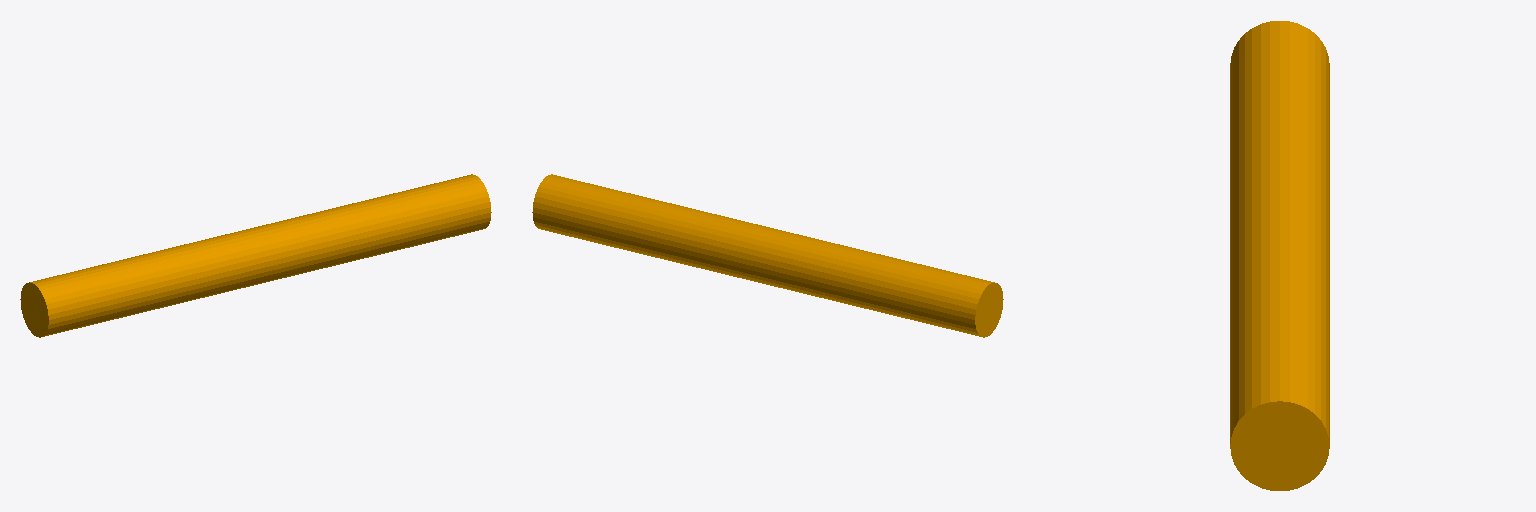
The robot description file, URDF, robot "prius":
<?xml version="1.0" ?>
<robot name="prius">
  <joint name="prius_hybrid__front_left_combined_joint" type="revolute">
    <parent link="prius_hybrid__chassis"/>
    <child link="prius_hybrid__front_left_combined_joint__revolute_dummy_link"/>
    <origin xyz="0.76 -1.41  0.33" rpy="-0.08726  0       0"/>
    <axis xyz="0 0 1"/>
    <limit lower="-0.8727" upper="0.8727" effort="0.0" velocity="0.0"/>
  </joint>
  <link name="prius_hybrid__front_left_combined_joint__revolute_dummy_link"/>
  <joint name="prius_hybrid__front_left_combined_joint__revolute_dummy_joint" type="revolute">
    <parent link="prius_hybrid__front_left_combined_joint__revolute_dummy_link"/>
    <child link="prius_hybrid__front_left_wheel"/>
    <axis xyz="1 0 0"/>
    <limit lower="0" upper="0" effort="0" velocity="0"/>
  </joint>
  <joint name="prius_hybrid__front_right_combined_joint" type="revolute">
    <parent link="prius_hybrid__chassis"/>
    <child link="prius_hybrid__front_right_combined_joint__revolute_dummy_link"/>
    <origin xyz="-0.76 -1.41  0.33" rpy="-0.08726  0       0"/>
    <axis xyz="0 0 1"/>
    <limit lower="-0.8727" upper="0.8727" effort="0.0" velocity="0.0"/>
  </joint>
  <link name="prius_hybrid__front_right_combined_joint__revolute_dummy_link"/>
  <joint name="prius_hybrid__front_right_combined_joint__revolute_dummy_joint" type="revolute">
    <parent link="prius_hybrid__front_right_combined_joint__revolute_dummy_link"/>
    <child link="prius_hybrid__front_right_wheel"/>
    <axis xyz="1 0 0"/>
    <limit lower="0" upper="0" effort="0" velocity="0"/>
  </joint>
  <joint name="prius_hybrid__rear_axle_joint" type="revolute">
    <parent link="prius_hybrid__chassis"/>
    <child link="prius_hybrid__rear_axle"/>
    <origin xyz="0   1.45 0.33" rpy="0 0 0"/>
    <axis xyz="0 1 0"/>
    <limit lower="-0.05089058524173028" upper="0.05089058524173028" effort="0.0" velocity="0.0"/>
  </joint>
  <joint name="prius_hybrid__rear_left_wheel_joint" type="fixed">
    <parent link="prius_hybrid__rear_axle"/>
    <child link="prius_hybrid__rear_left_wheel"/>
    <origin xyz="0.786 0    0" rpy="0 0 0"/>
    <axis xyz="1 0 0"/>
    <limit lower="0" upper="0" effort="0" velocity="0"/>
  </joint>
  <joint name="prius_hybrid__rear_right_wheel_joint" type="fixed">
    <parent link="prius_hybrid__rear_axle"/>
    <child link="prius_hybrid__rear_right_wheel"/>
    <origin xyz="-0.786  0     0" rpy="0 0 0"/>
    <axis xyz="1 0 0"/>
    <limit lower="0" upper="0" effort="0" velocity="0"/>
  </joint>
  <joint name="prius_hybrid__steering_joint" type="revolute">
    <parent link="prius_hybrid__chassis"/>
    <child link="prius_hybrid__steering_wheel"/>
    <origin xyz="0.35573 -0.62786  1.01824" rpy="-1.3021  0      0"/>
    <axis xyz="0.e+00 -8.e-05  1.e+00"/>
    <limit lower="-7.85" upper="7.85" effort="0.0" velocity="0.0"/>
  </joint>

  <link name="prius_hybrid__chassis">
    <inertial>
      <mass value="1326.0"/>
      <origin xyz="0    -0.266  0.48" rpy="0 0 0"/>
      <inertia ixx="2581.13354740" ixy="0.0" ixz="0.0" iyy="591.30846112" iyz="0.0" izz="2681.95008628"/>
    </inertial>

    <collision name="prius_hybrid__chassis">
      <origin xyz="0    0.05  0.655" rpy="0 0 0"/>
      <geometry>
        <box size="1.7526 2.1 0.95"/>
      </geometry>
    </collision>
    <collision name="prius_hybrid__front_bumper">
      <origin xyz="0      -2       0.48848" rpy="0 0 0"/>
      <geometry>
        <box size="1.337282 0.48 0.566691"/>
      </geometry>
    </collision>
    <collision name="prius_hybrid__hood">
      <origin xyz="0      -1.90084  0.7063" rpy="0.34124 0      0"/>
      <geometry>
        <box size="1.597968 0.493107 0.265468"/>
      </geometry>
    </collision>
    <collision name="prius_hybrid__windshield">
      <origin xyz="0      -0.8751   1.06226" rpy="0.33547 0      0"/>
      <geometry>
        <box size="1.168381 1.654253 0.272347"/>
      </geometry>
    </collision>
    <collision name="prius_hybrid__top_front">
      <origin xyz="0      0.16123 1.41604" rpy="0.13503 0      0"/>
      <geometry>
        <box size="1.279154 0.625988 0.171868"/>
      </geometry>
    </collision>
    <collision name="prius_hybrid__top_rear">
      <origin xyz="0      0.81769 1.39006" rpy="-0.06899  0       0"/>
      <geometry>
        <box size="1.285130 0.771189 0.226557"/>
      </geometry>
    </collision>
    <collision name="prius_hybrid__rear_window">
      <origin xyz="0      1.64053 1.20512" rpy="-0.26201  0       0"/>
      <geometry>
        <box size="1.267845 1.116344 0.244286"/>
      </geometry>
    </collision>
    <collision name="prius_hybrid__trunk">
      <origin xyz="0      1.63705 0.91818" rpy="0 0 0"/>
      <geometry>
        <box size="1.788064 1.138988 0.482746"/>
      </geometry>
    </collision>
    <collision name="prius_hybrid__back_bumper">
      <origin xyz="0      2.05445 0.60787" rpy="0 0 0"/>
      <geometry>
        <box size="1.781650 0.512093 0.581427"/>
      </geometry>
    </collision>

    <visual name="prius_hybrid__chassis_visual">
      <origin xyz="0   0   0.03" rpy="0 0 0"/>
      <geometry>
        <mesh filename="package://object_spawner/urdf/meshes/Hybrid.obj" scale="0.01 0.01 0.01"/>
      </geometry>
    </visual>
    <visual name="prius_hybrid__interior_visual">
      <origin xyz="0   0   0.03" rpy="0 0 0"/>
      <geometry>
        <mesh filename="package://object_spawner/urdf/meshes/Hybrid.obj" scale="0.01 0.01 0.01"/>
      </geometry>
    </visual>
    <visual name="prius_hybrid__windows_visual">
      <origin xyz="0   0   0.03" rpy="0 0 0"/>
      <geometry>
        <mesh filename="package://object_spawner/urdf/meshes/Hybrid.obj" scale="0.01 0.01 0.01"/>
      </geometry>
    </visual>
  </link>

  <!--ruote sterzanti anteriori-->
  <link name="prius_hybrid__steering_wheel">
    <inertial>
      <mass value="1.0"/>
      <origin xyz="0 0 0" rpy="0 0 0"/>
      <inertia ixx="0.14583300" ixy="0" ixz="0" iyy="0.14583300" iyz="0" izz="0.12500000"/>
    </inertial>

    <collision name="prius_hybrid__collision">
      <origin xyz="0.002 0    0" rpy="0 0 0"/>
      <geometry>
        <cylinder radius="0.178172" length="0.041845"/>
      </geometry>
    </collision>
    
    <visual name="prius_hybrid__visual">
      <origin xyz="0.002 0    0" rpy="1.3021 0     0"/>
      <geometry>
        <mesh filename="package://object_spawner/urdf/meshes/Hybrid.obj" scale="0.01 0.01 0.01"/>
      </geometry>
    </visual>
  </link>

  <link name="prius_hybrid__front_left_wheel">
    <inertial>
      <mass value="11"/>
      <origin xyz="0 0 0" rpy="0 0 0"/>
      <inertia ixx="0.58631238" ixy="0.0" ixz="0.0" iyy="0.33552910" iyz="0.0" izz="0.33552910"/>
    </inertial>
    <collision name="prius_hybrid__collision">
      <origin xyz="0 0 0" rpy="1.57079 1.48353 1.57079"/>
      <geometry>
        <sphere radius="0.31265"/>
      </geometry>
    </collision>
    <visual name="prius_hybrid__visual">
      <origin xyz="0.04 0   0" rpy="0.08726 0      0"/>
      <geometry>
        <mesh filename="package://object_spawner/urdf/meshes/Hybrid.obj" scale="0.01 0.01 0.01"/>
      </geometry>
    </visual>
  </link>

  <link name="prius_hybrid__front_right_wheel">
    <inertial>
      <mass value="11"/>
      <origin xyz="0 0 0" rpy="0 0 0"/>
      <inertia ixx="0.58631238" ixy="0.0" ixz="0.0" iyy="0.33552910" iyz="0.0" izz="0.33552910"/>
    </inertial>
    <collision name="prius_hybrid__collision">
      <origin xyz="0 0 0" rpy="1.57079 1.48353 1.57079"/>
      <geometry>
        <sphere radius="0.31265"/>
      </geometry>
    </collision>
    <visual name="prius_hybrid__visual">
      <origin xyz="-0.04  0    0" rpy="0.08726 0      0"/>
      <geometry>
        <mesh filename="package://object_spawner/urdf/meshes/Hybrid.obj" scale="0.01 0.01 0.01"/>
      </geometry>
    </visual>
  </link>



  <!--ruote di dietro-->
  <link name="prius_hybrid__rear_left_wheel">
    <inertial>
      <mass value="11"/>
      <origin xyz="0 0 0" rpy="0 0 0"/>
      <inertia ixx="0.58631238" ixy="0.0" ixz="0.0" iyy="0.33552910" iyz="0.0" izz="0.33552910"/>
    </inertial>
    <collision name="prius_hybrid__collision">
      <origin xyz="0 0 0" rpy="0      1.57079 0"/>
      <geometry>
        <sphere radius="0.31265"/>
      </geometry>
    </collision>
    <visual name="prius_hybrid__visual">
      <origin xyz="0.04 0   0" rpy="0 0 0"/>
      <geometry>
        <mesh filename="package://object_spawner/urdf/meshes/Hybrid.obj" scale="0.01 0.01 0.01"/>
      </geometry>
    </visual>
  </link>
  <link name="prius_hybrid__rear_right_wheel">
    <inertial>
      <mass value="11"/>
      <origin xyz="0 0 0" rpy="0 0 0"/>
      <inertia ixx="0.58631238" ixy="0.0" ixz="0.0" iyy="0.33552910" iyz="0.0" izz="0.33552910"/>
    </inertial>
    <collision name="prius_hybrid__collision">
      <origin xyz="0 0 0" rpy="0      1.57079 0"/>
      <geometry>
        <sphere radius="0.31265"/>
      </geometry>
    </collision>
    <visual name="prius_hybrid__visual">
      <origin xyz="-0.04  0    0" rpy="0 0 0"/>
      <geometry>
        <mesh filename="package://object_spawner/urdf/meshes/Hybrid.obj" scale="0.01 0.01 0.01"/>
      </geometry>
    </visual>
  </link>
  <link name="prius_hybrid__rear_axle">
    <inertial>
      <mass value="30.0"/>
      <origin xyz="0 0 0" rpy="0 0 0"/>
      <inertia ixx="0.08437499999999999" ixy="0.0" ixz="0.0" iyy="4.64581" iyz="0.0" izz="4.64581"/>
    </inertial>
    <visual name="prius_hybrid__visual">
      <origin xyz="0 0 0" rpy="0      1.57079 0"/>
      <geometry>
        <cylinder radius="0.075" length="1.357"/>
      </geometry>
    </visual>
  </link>
</robot>

--- Render facts (derived) ---
The picture shows the robot from 3 angles, left to right: view 1: azimuth 30°, elevation 25°; view 2: azimuth 150°, elevation 25°; view 3: azimuth 270°, elevation 25°; orthographic projection.
Robot: prius — 9 links, 8 joints (6 revolute, 2 fixed); root link prius_hybrid__chassis; default pose: every joint at zero.
Links seen in each view (by area): view 1: prius_hybrid__rear_axle; view 2: prius_hybrid__rear_axle; view 3: prius_hybrid__rear_axle.
Link boxes in pixels (x1,y1,x2,y2): prius_hybrid__rear_axle: [20, 174, 491, 337]; prius_hybrid__rear_axle: [532, 174, 1003, 337]; prius_hybrid__rear_axle: [1230, 21, 1329, 490].
Bounding box of the posed robot: 1.36 × 0.15 × 0.15 m (x, y, z).
Meshes: 1 distinct files referenced, 0 mesh visuals loaded (none loaded); not drawn: 8 (reference not matched to a file when rendering).